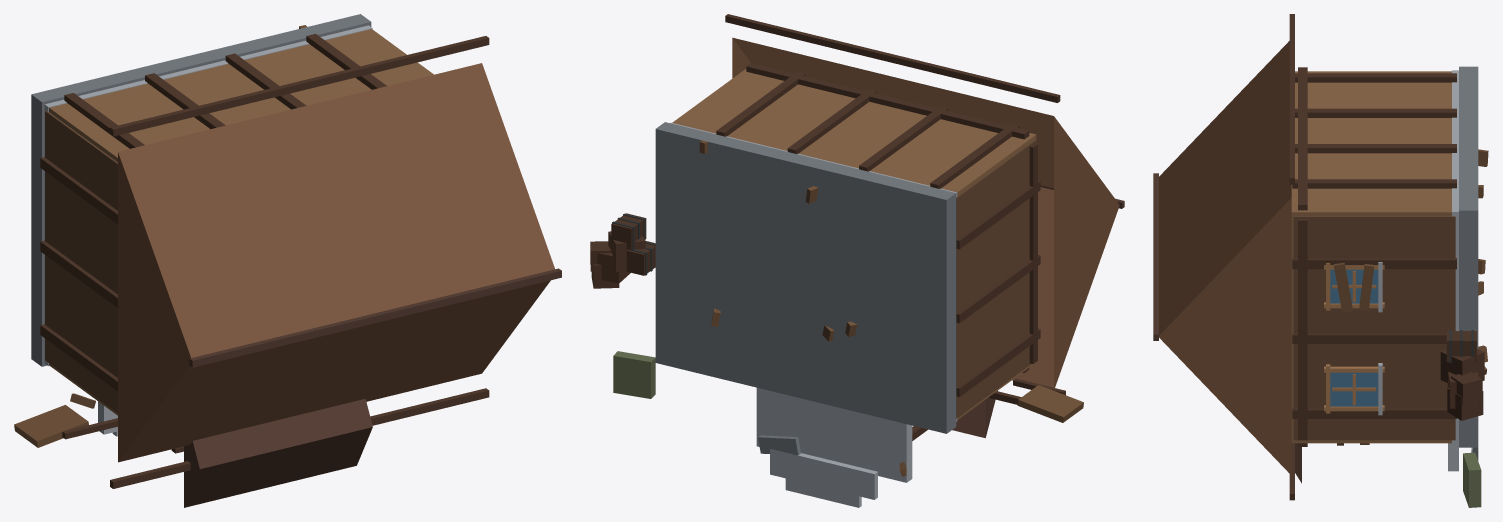
Rendered from worldforge_building_43027.obj.
3 renders of one model, left to right at view 1: azimuth 30°, elevation 25°; view 2: azimuth 150°, elevation 25°; view 3: azimuth 270°, elevation 25°, orthographic. The views are drawn at different scales.
Parts seen in each view (by area): view 1: mainRoof, leftWallTone, walls, porchRoof, foundation, eaveTrimBack, ridgeCap, eaveTrimFront, sign, plinth, leftPost_-1.35, leftPost_-0.15 (+5 smaller); view 2: foundation, mainRoof, walls, leftWallTone, porchDeck, eaveTrimBack, step1, backBeam_1, leftBeam_1, deadGrowth, sign, backPost_-0.87 (+12 smaller); view 3: mainRoof, rightWallTone, walls, foundation, rightBeam_1, rightPost_-0.15, rightPost_1.05, backPost_1.55, backPost_-2.08, backPost_-0.87, backPost_0.34, rightPost_-1.35 (+14 smaller).
Part boxes in pixels (x1=…): mainRoof: x1=118, y1=63, x2=554, y2=462; leftWallTone: x1=45, y1=110, x2=117, y2=413; walls: x1=49, y1=29, x2=433, y2=415; porchRoof: x1=184, y1=399, x2=372, y2=507; foundation: x1=31, y1=14, x2=371, y2=366; eaveTrimBack: x1=110, y1=36, x2=489, y2=136; ridgeCap: x1=189, y1=268, x2=561, y2=367; eaveTrimFront: x1=110, y1=388, x2=489, y2=488; sign: x1=14, y1=405, x2=88, y2=447; plinth: x1=44, y1=25, x2=372, y2=366; leftPost_-1.35: x1=40, y1=324, x2=117, y2=391; leftPost_-0.15: x1=40, y1=240, x2=117, y2=307; foundation: x1=655, y1=122, x2=956, y2=433; mainRoof: x1=732, y1=37, x2=1119, y2=387; walls: x1=672, y1=69, x2=1036, y2=419; leftWallTone: x1=956, y1=139, x2=1036, y2=418; porchDeck: x1=756, y1=387, x2=912, y2=482; eaveTrimBack: x1=725, y1=14, x2=1060, y2=102; step1: x1=770, y1=449, x2=877, y2=499; backBeam_1: x1=746, y1=63, x2=1029, y2=139; leftBeam_1: x1=1029, y1=143, x2=1037, y2=363; deadGrowth: x1=613, y1=351, x2=655, y2=398; sign: x1=1017, y1=385, x2=1083, y2=422; backPost_-0.87: x1=859, y1=106, x2=948, y2=171; mainRoof: x1=1159, y1=41, x2=1291, y2=475; rightWallTone: x1=1293, y1=216, x2=1455, y2=440; walls: x1=1291, y1=71, x2=1451, y2=443; foundation: x1=1459, y1=66, x2=1478, y2=447; rightBeam_1: x1=1298, y1=218, x2=1307, y2=440; rightPost_-0.15: x1=1292, y1=333, x2=1446, y2=343; rightPost_1.05: x1=1292, y1=258, x2=1456, y2=269; backPost_1.55: x1=1292, y1=179, x2=1456, y2=188; backPost_-2.08: x1=1295, y1=73, x2=1456, y2=82; backPost_-0.87: x1=1295, y1=108, x2=1456, y2=117; backPost_0.34: x1=1295, y1=144, x2=1456, y2=153; rightPost_-1.35: x1=1292, y1=407, x2=1456, y2=418.
Bounding box in the file's own units: 7.31 × 6.03 × 4.87.
